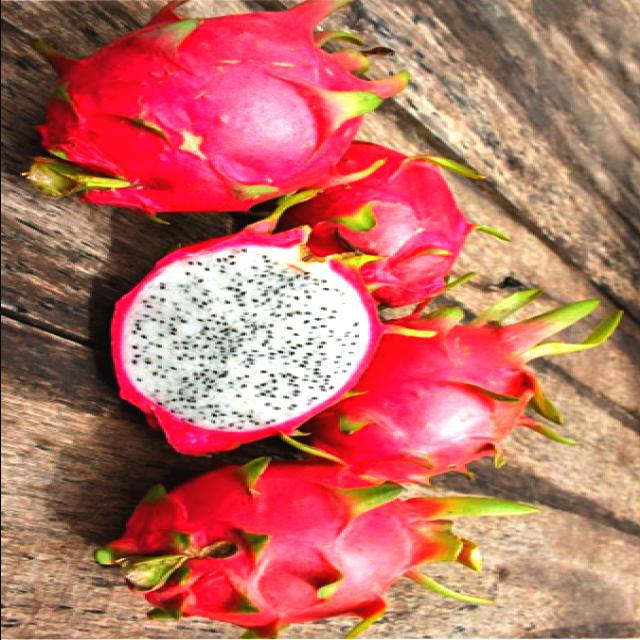trang: (21, 0, 408, 210), (101, 455, 535, 639), (103, 221, 384, 459), (300, 293, 623, 478), (282, 141, 502, 305)
